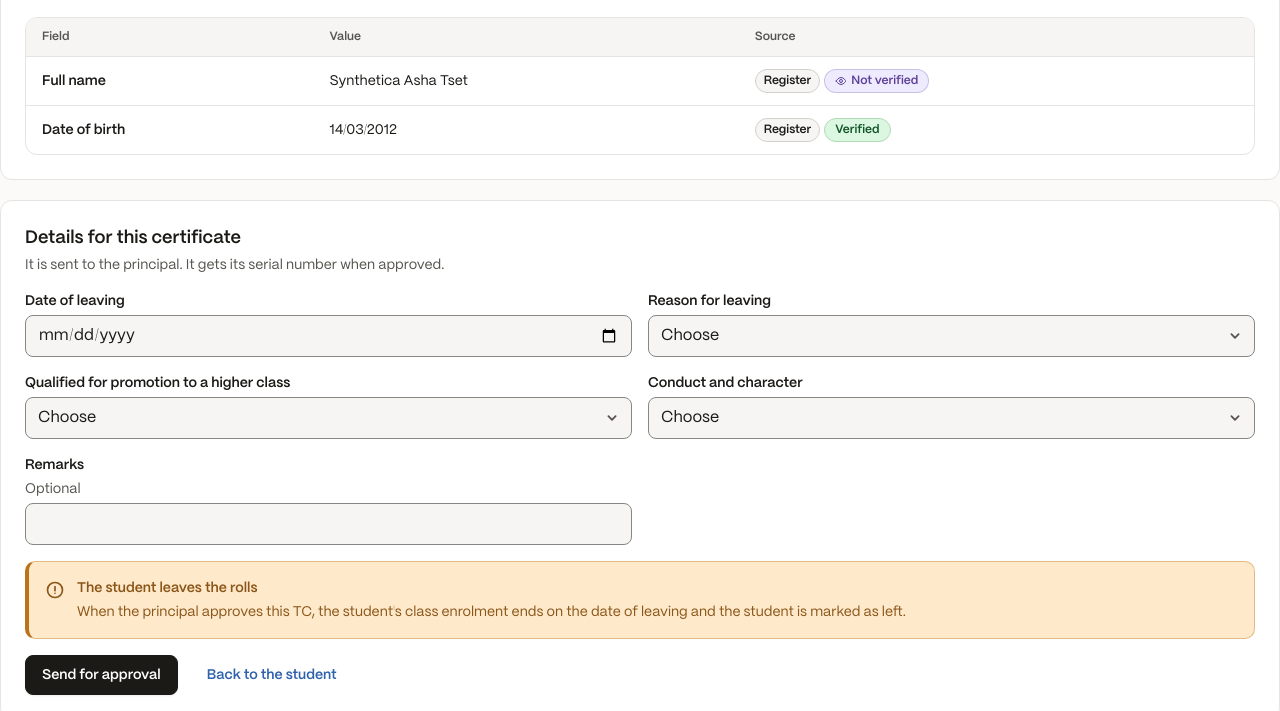
Test case: issue a certificate (US-1101, US-1102, FR-CERT-002) › a transfer certificate goes for approval and warns that the student leaves the rolls
The image size is (1280, 711).
(page scrolled)
Expected: the text "The student leaves the rolls" is shown, [77, 581, 257, 595]
Click the button "Send for approval": click(101, 675) [25, 655, 178, 695]
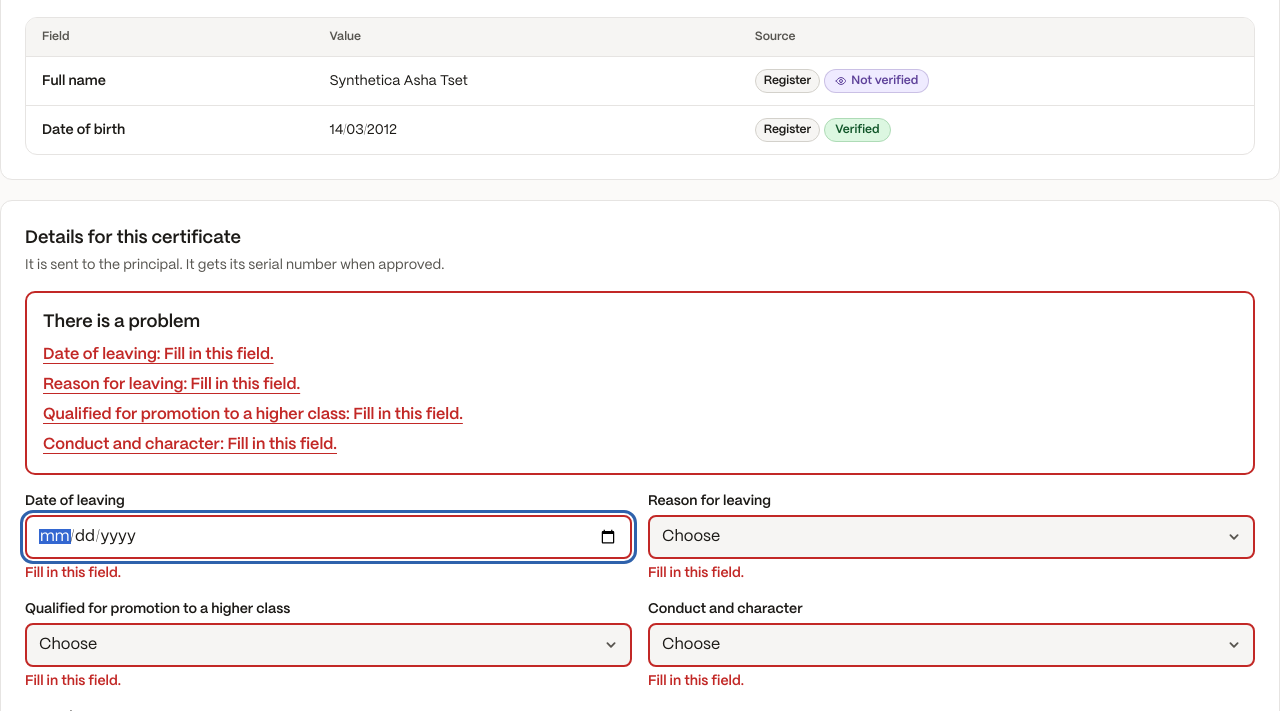
Result: the 1st text "Fill in this field." is shown at [25, 566, 121, 580]
